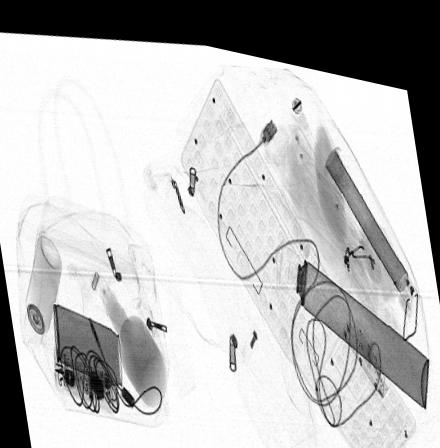Sprayer: (279, 228, 429, 391), (24, 234, 62, 346)
